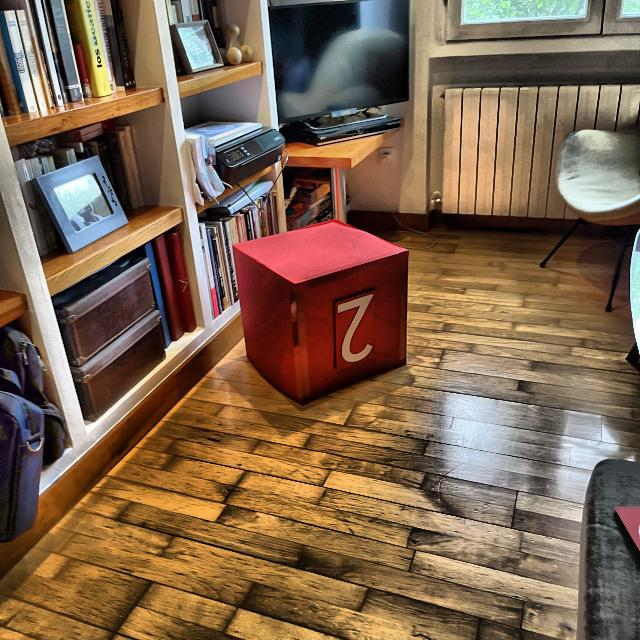red box: (233, 220, 408, 403)
two: (337, 294, 373, 362)
